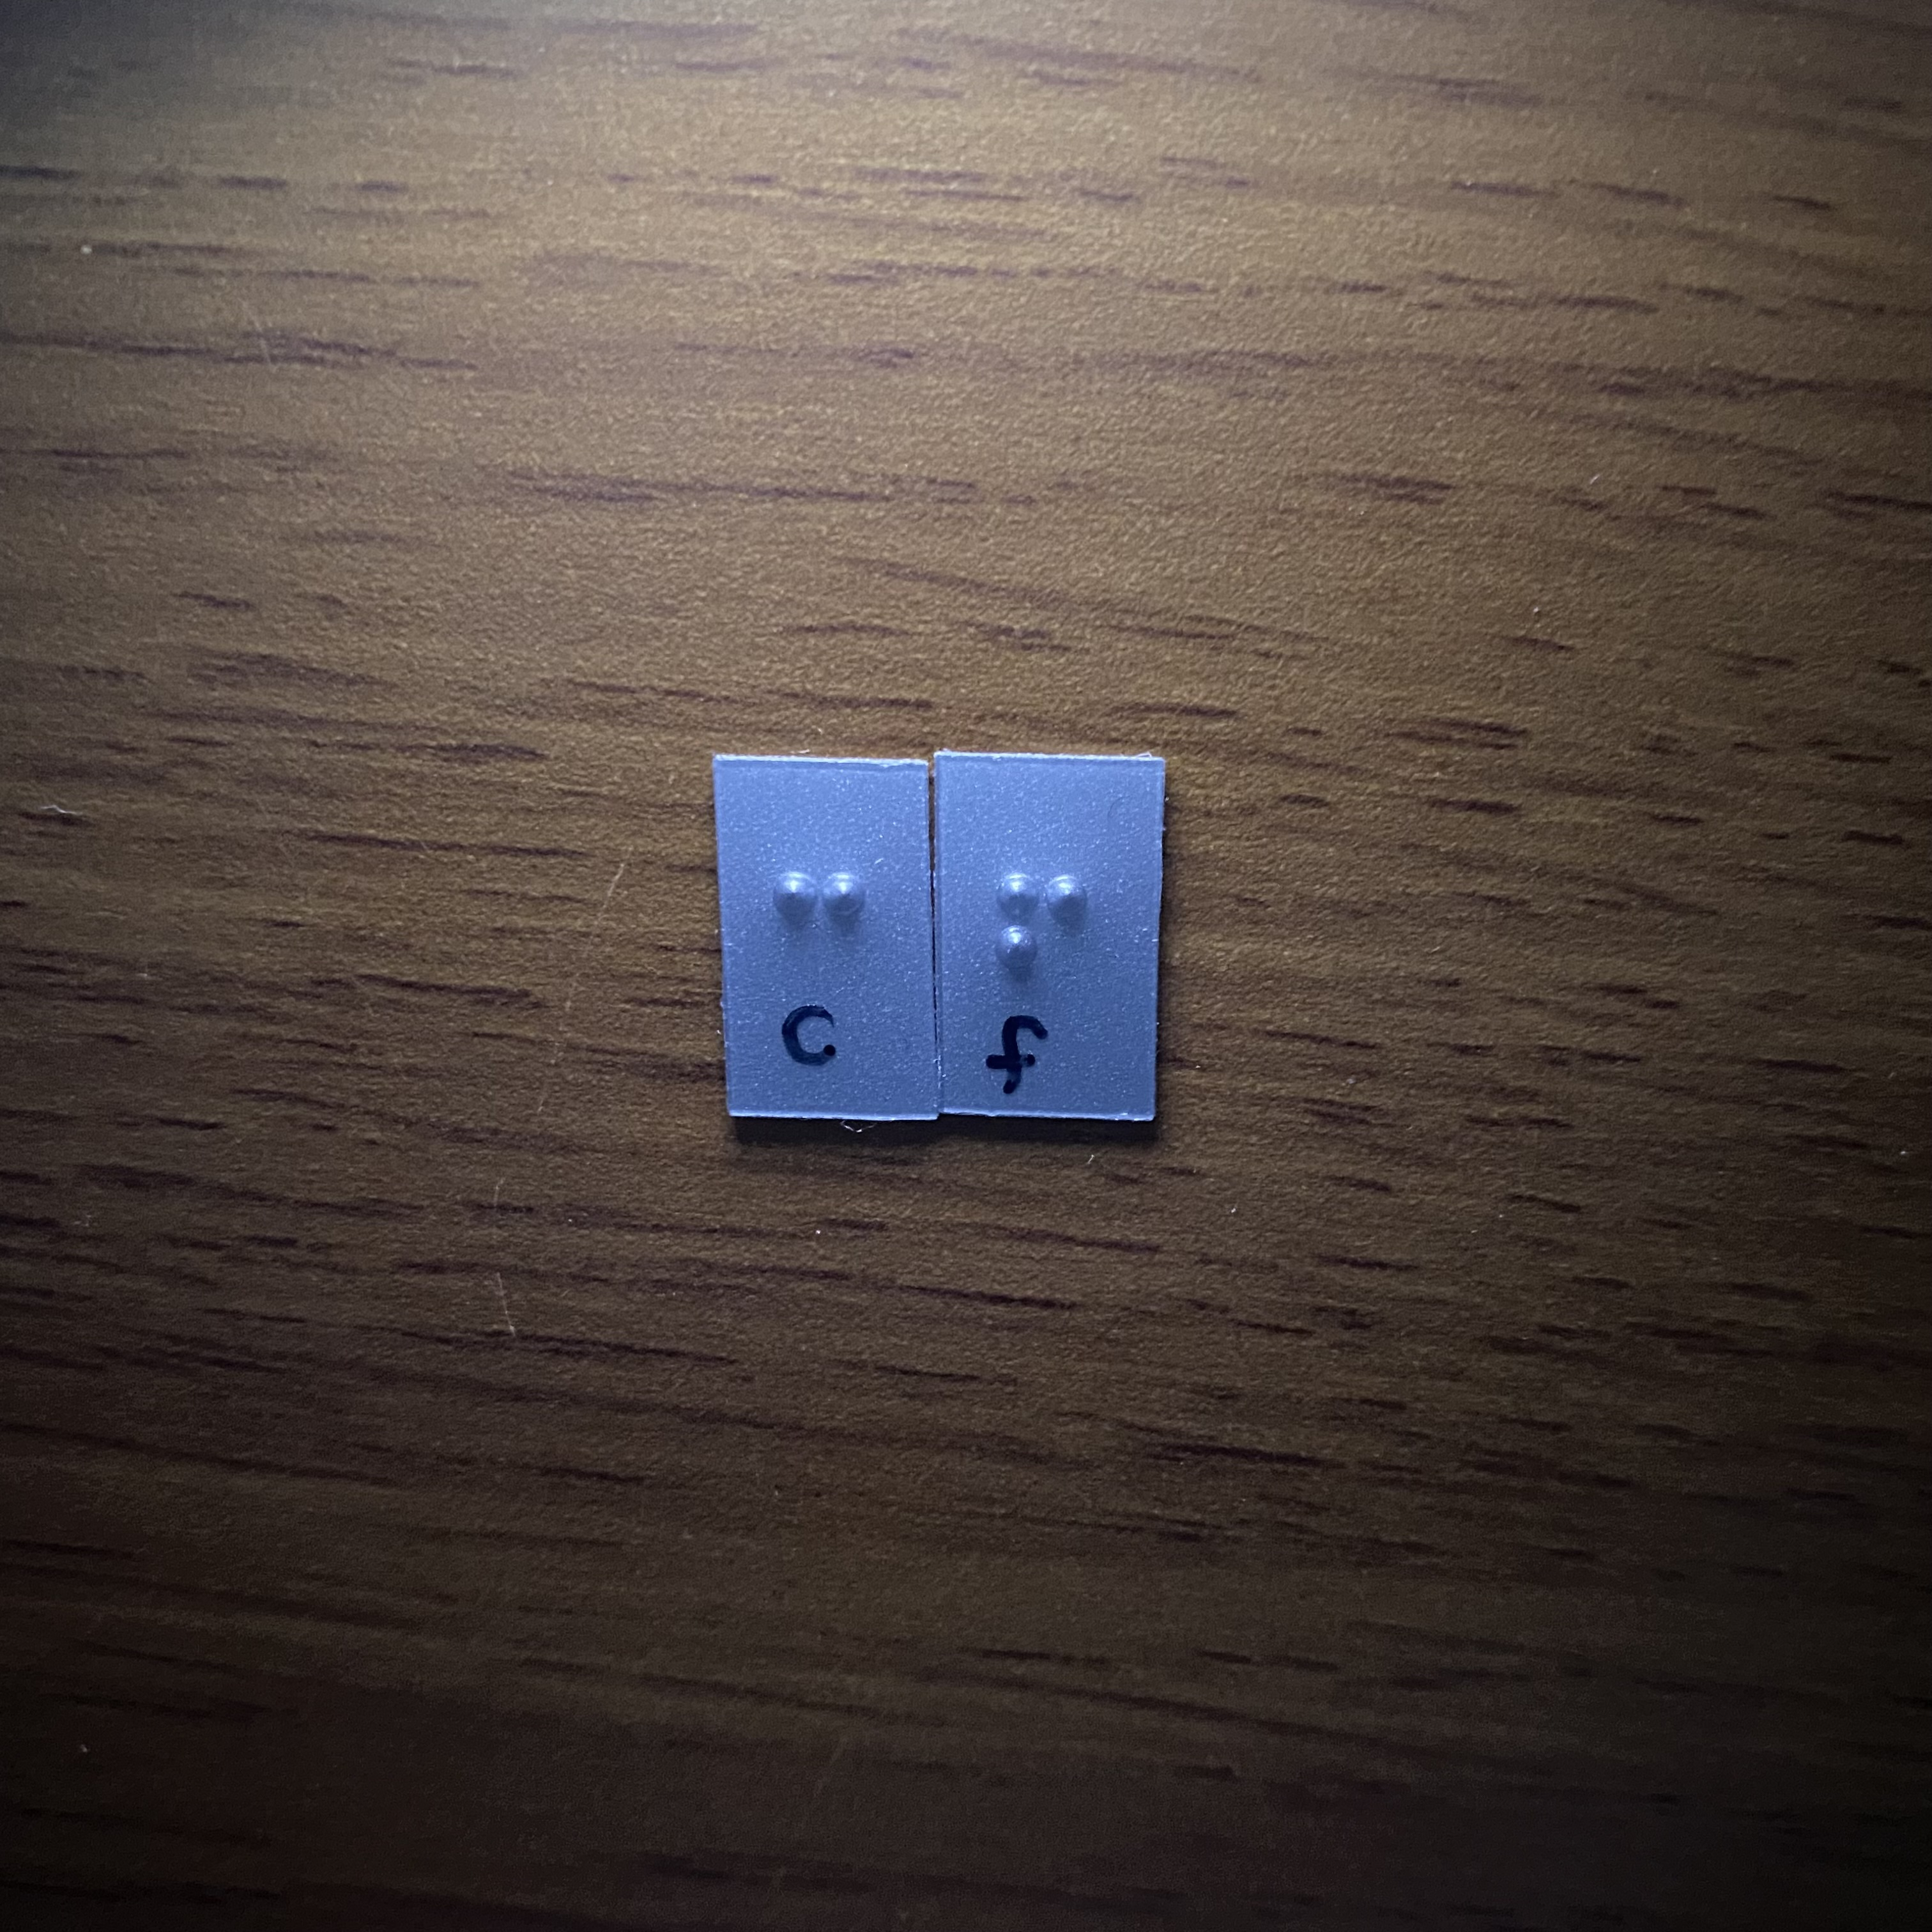c: (752, 855, 877, 1031)
f: (981, 866, 1098, 1039)
